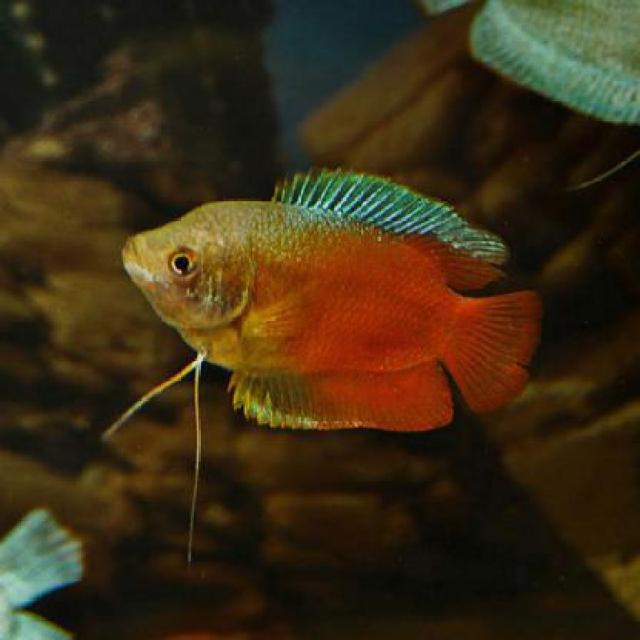Gourami: (118, 163, 544, 431)
